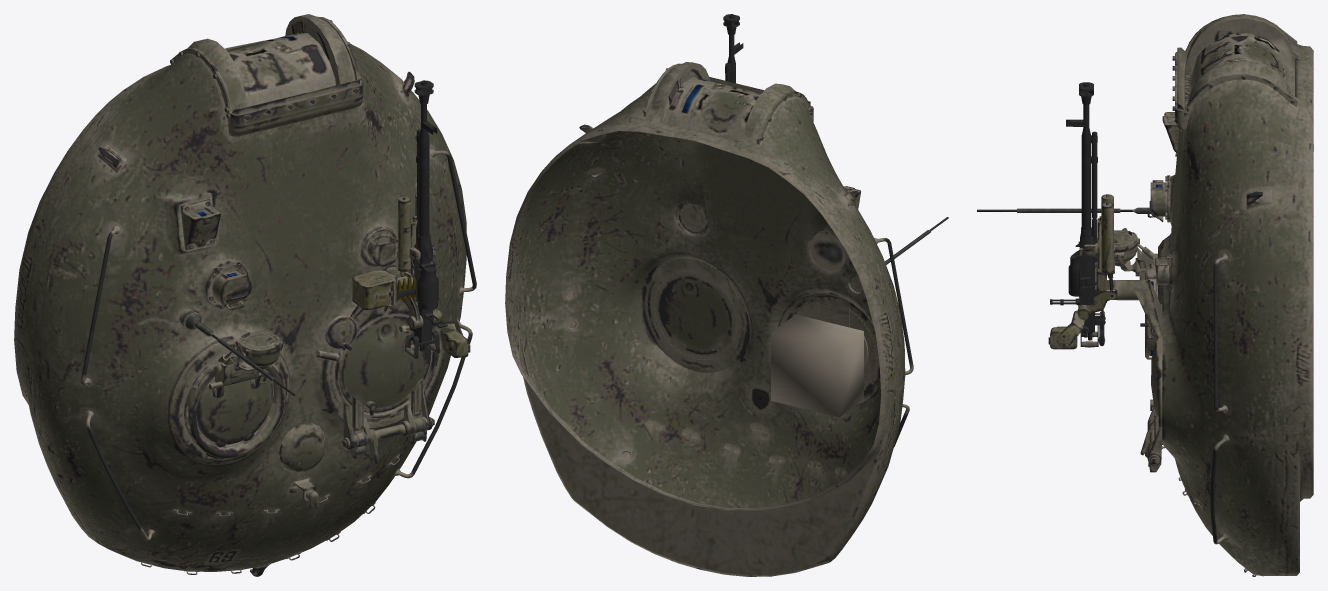
The model's file is Turret_01.glb.
3 renders of one model, left to right at view 1: azimuth 30°, elevation 25°; view 2: azimuth 150°, elevation 25°; view 3: azimuth 270°, elevation 25°, orthographic. The views are drawn at different scales.
Parts seen in each view (by area): view 1: set_0_group_0; view 2: set_0_group_0; view 3: set_0_group_0.
Boxes of the visible parts, x1=… form: set_0_group_0: x1=14, y1=14, x2=476, y2=576; set_0_group_0: x1=505, y1=14, x2=948, y2=576; set_0_group_0: x1=977, y1=14, x2=1313, y2=576.
Bounding box in the file's own units: 2.77 × 3.39 × 1.98.
1 material, 1 textured.
